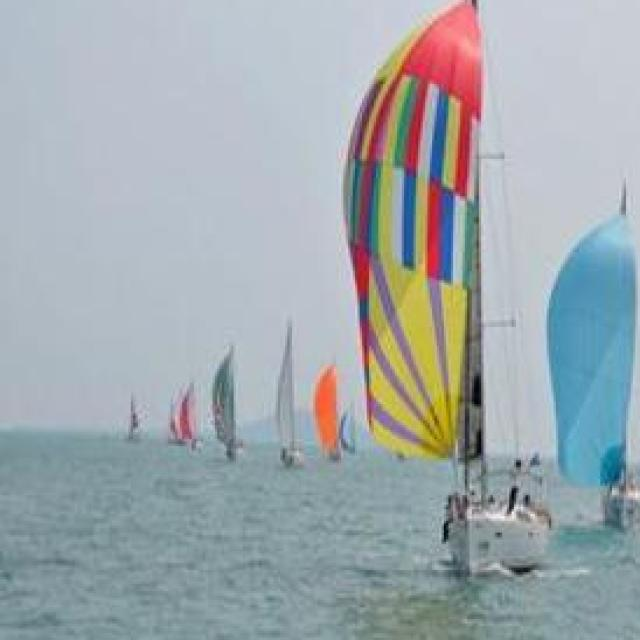sailboat: (336, 29, 576, 596), (549, 170, 640, 549), (262, 314, 324, 457), (207, 339, 251, 471), (311, 343, 362, 456), (154, 371, 190, 446)
